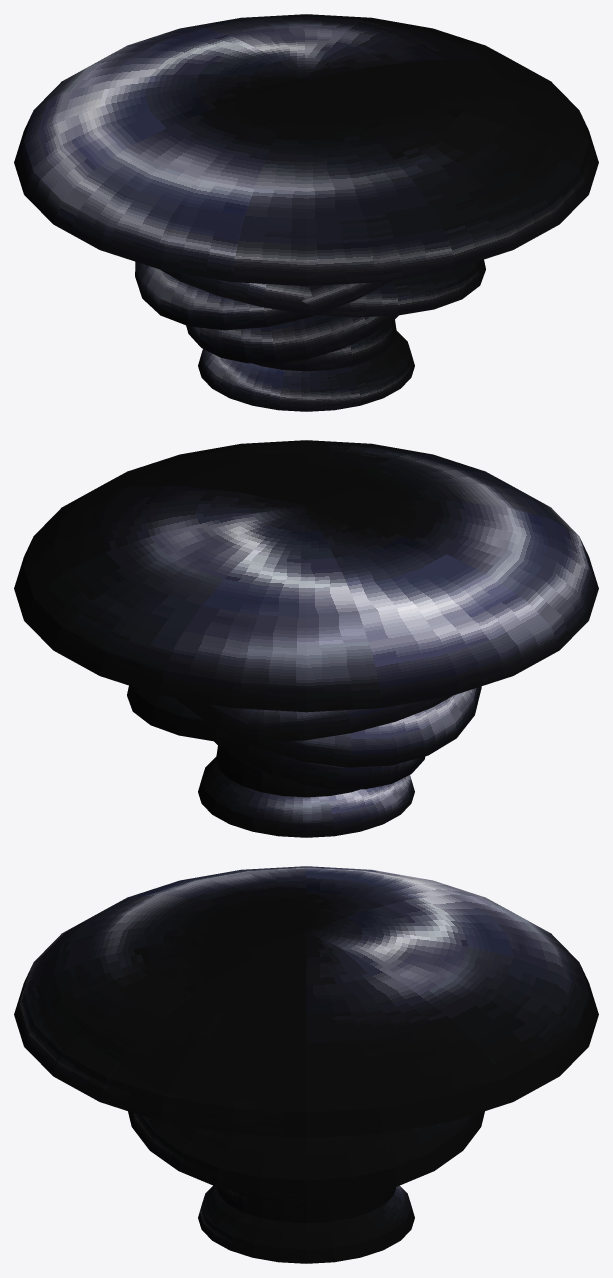
The model's file is projBladeStorm.fbx.
The picture shows the model from 3 angles, top to bottom: view 1: azimuth 30°, elevation 25°; view 2: azimuth 150°, elevation 25°; view 3: azimuth 270°, elevation 25°; orthographic projection.
Visible parts, largest first — view 1: cylinder ring 11 (×6); view 2: cylinder ring 11 (×6); view 3: cylinder ring 11 (×4).
Boxes of the visible parts, bbox=[...] form: cylinder ring 11 (×6): bbox=[14, 14, 598, 411]; cylinder ring 11 (×6): bbox=[14, 440, 598, 837]; cylinder ring 11 (×4): bbox=[14, 866, 598, 1263].
Size of the model in its own units: 3.23 by 1.74 by 3.23.
